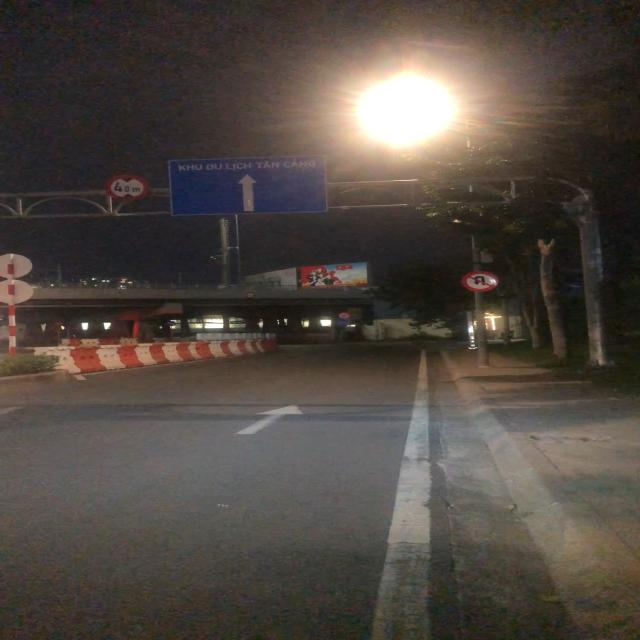Bien bao cam quay dau xe: (462, 269, 499, 293)
Bien bao han che chieu cao: (104, 174, 154, 203)
